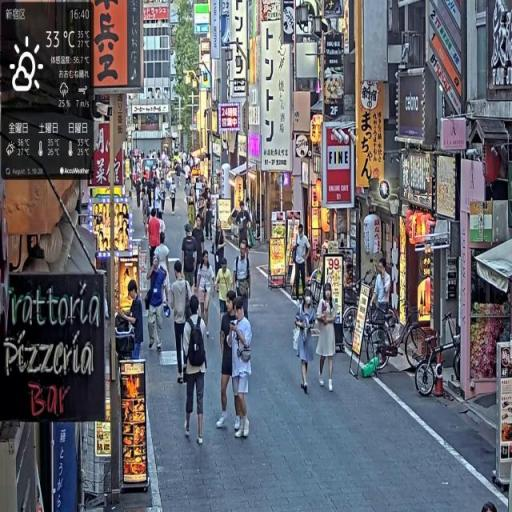person: (182, 292, 210, 448), (230, 295, 254, 443), (219, 290, 241, 433), (293, 287, 319, 397), (171, 262, 193, 387), (317, 281, 339, 393), (146, 255, 169, 357), (291, 224, 312, 306), (199, 250, 217, 340), (215, 255, 235, 331), (127, 280, 145, 361), (234, 243, 253, 314), (182, 225, 199, 296), (192, 216, 207, 292), (170, 176, 179, 215)
